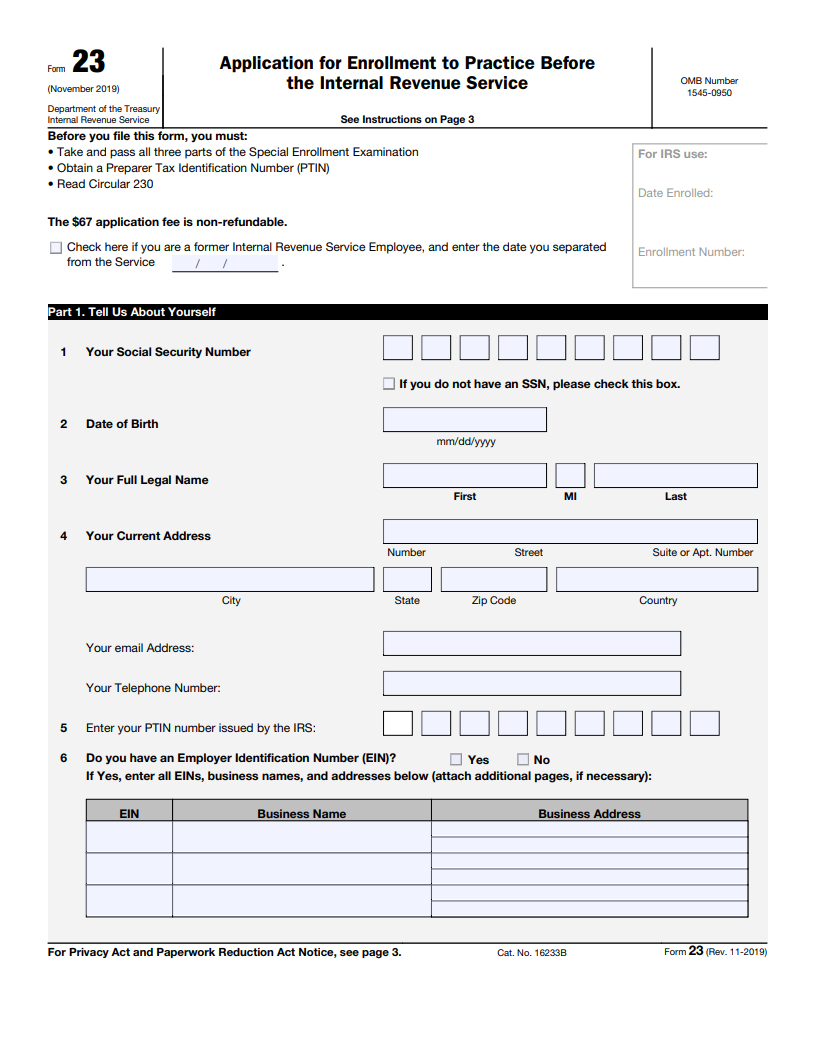checkbox: (46, 239, 64, 255), (378, 374, 396, 390), (446, 750, 464, 766), (514, 750, 532, 766)
textbox: (380, 514, 760, 546), (164, 816, 435, 856), (165, 848, 436, 888), (163, 879, 434, 919), (378, 627, 683, 658), (379, 667, 684, 698), (81, 561, 376, 593), (426, 816, 751, 842), (425, 829, 750, 855), (427, 846, 752, 872), (426, 862, 751, 888), (427, 878, 752, 904), (426, 893, 751, 919), (627, 183, 762, 242), (627, 237, 768, 290), (553, 563, 760, 594), (378, 403, 550, 436), (377, 457, 549, 490), (591, 459, 761, 490), (84, 881, 173, 919), (83, 817, 176, 853), (83, 850, 176, 886), (438, 563, 549, 593), (379, 562, 436, 594), (379, 707, 416, 739), (416, 706, 453, 738), (456, 706, 493, 738), (494, 706, 531, 738), (532, 705, 569, 737), (570, 705, 607, 737), (609, 706, 646, 738), (646, 706, 683, 738), (684, 706, 721, 738), (379, 331, 415, 362), (418, 330, 454, 361), (456, 331, 492, 362), (494, 332, 530, 363), (533, 331, 569, 362), (572, 331, 608, 362), (609, 332, 645, 363), (647, 332, 683, 363), (685, 332, 721, 363), (552, 459, 588, 490)
textline: (169, 251, 280, 276)
